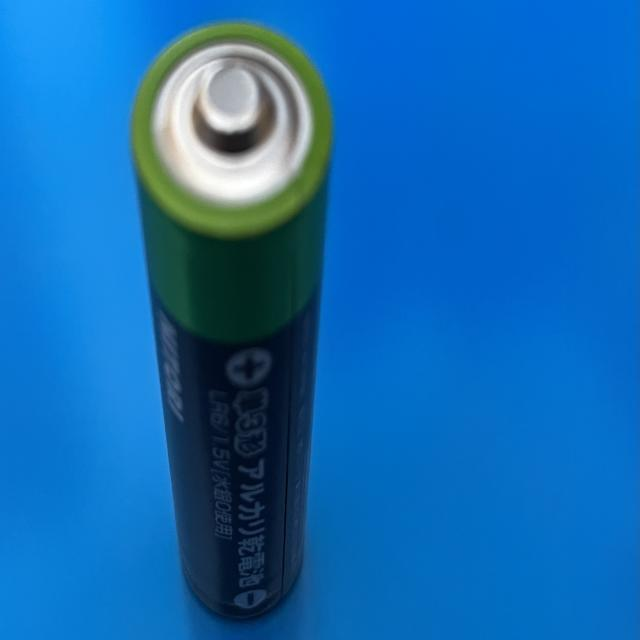AA: (123, 13, 334, 620)
